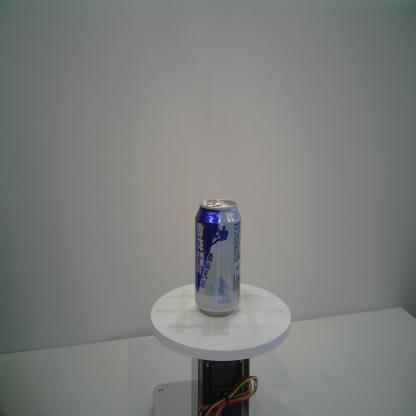Alcohol: (190, 194, 243, 318)
